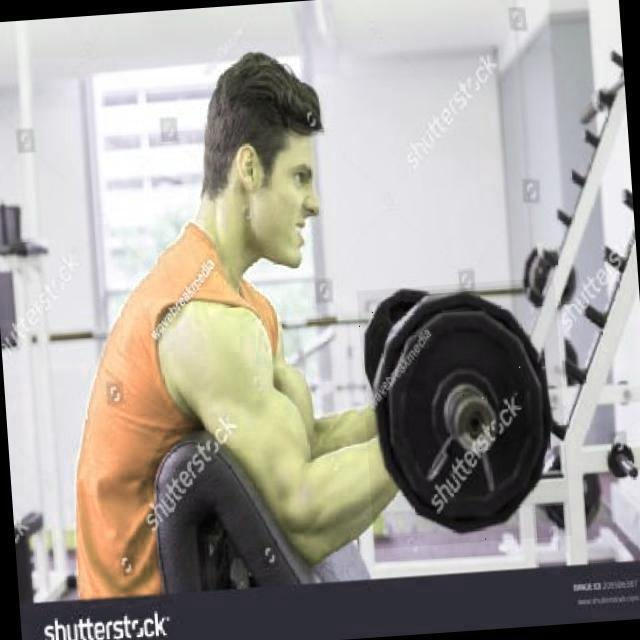barbell: (357, 277, 572, 550)
